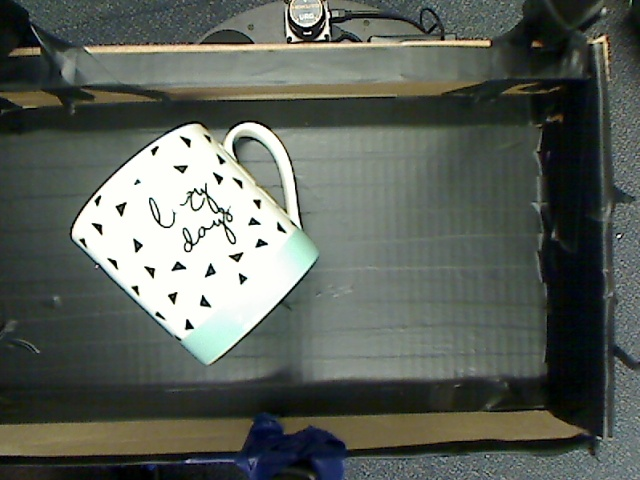mug: (59, 115, 330, 372)
